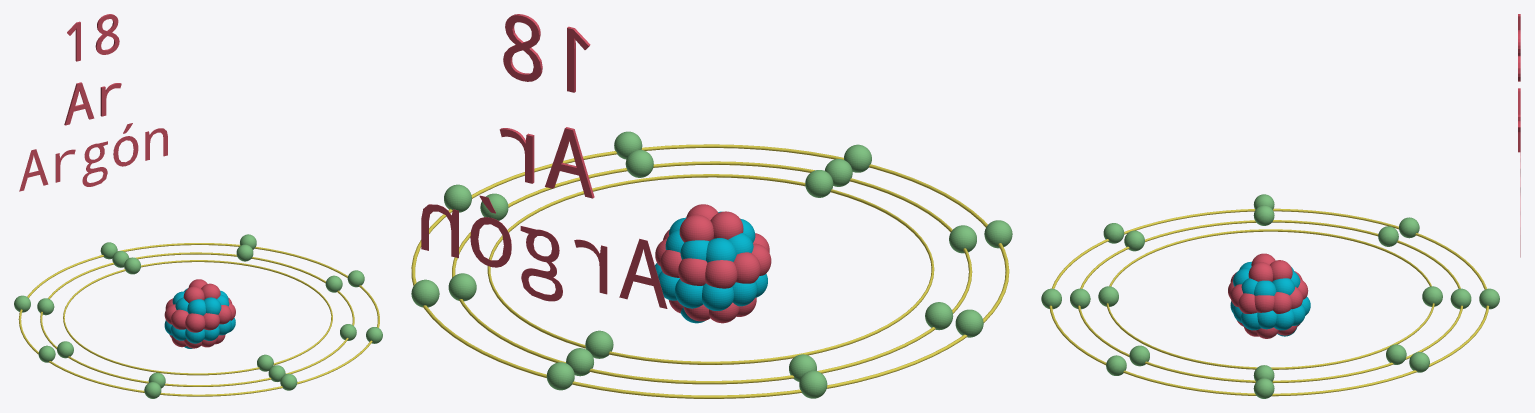
Rendered from 18-ARGON-ANDROID.glb.
The picture shows the model from 3 angles, left to right: view 1: azimuth 30°, elevation 25°; view 2: azimuth 150°, elevation 25°; view 3: azimuth 270°, elevation 25°; orthographic projection. The views are drawn at different scales.
Visible parts, largest first — view 1: Mesh_Mesh_head_geo.001_lambert2SG.001; view 2: Mesh_Mesh_head_geo.001_lambert2SG.001; view 3: Mesh_Mesh_head_geo.001_lambert2SG.001.
Boxes of the visible parts, box(x1,y1,x2,y2) form: Mesh_Mesh_head_geo.001_lambert2SG.001: box(14, 14, 382, 398); Mesh_Mesh_head_geo.001_lambert2SG.001: box(411, 14, 1012, 398); Mesh_Mesh_head_geo.001_lambert2SG.001: box(1041, 14, 1520, 398).
Size of the model in its own units: 176 by 132 by 185.
